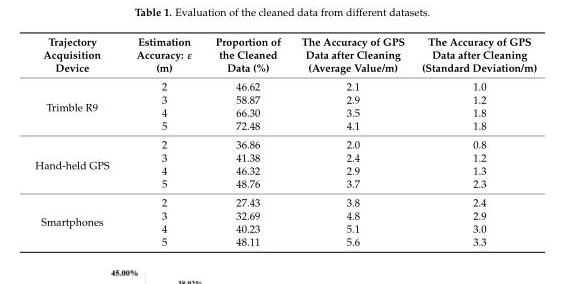table: (34, 34, 536, 247)
table column: (412, 34, 536, 247), (290, 34, 412, 247), (34, 34, 122, 247), (202, 34, 290, 247), (122, 34, 202, 247)
table column header: (34, 34, 536, 76)
table row: (34, 34, 536, 76), (34, 76, 536, 92), (34, 118, 536, 134), (34, 134, 536, 150), (34, 176, 536, 192), (34, 192, 536, 208), (34, 92, 536, 105), (34, 105, 536, 118), (34, 150, 536, 163), (34, 163, 536, 176), (34, 208, 536, 221), (34, 221, 536, 234), (34, 234, 536, 247)
table spanning cell: (34, 76, 122, 134), (34, 134, 122, 192), (34, 192, 122, 247)
